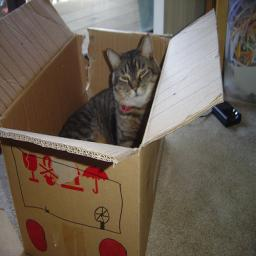catnose: (131, 84, 140, 92)
